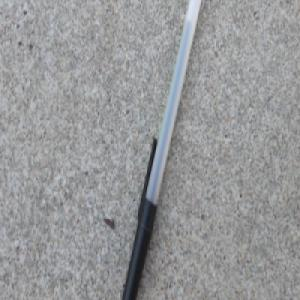Pen: (120, 0, 202, 300)
